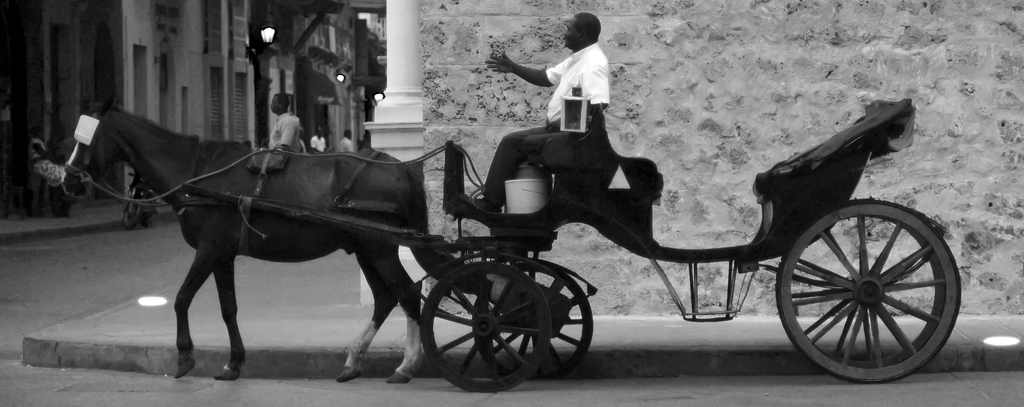horse: (61, 99, 428, 383)
